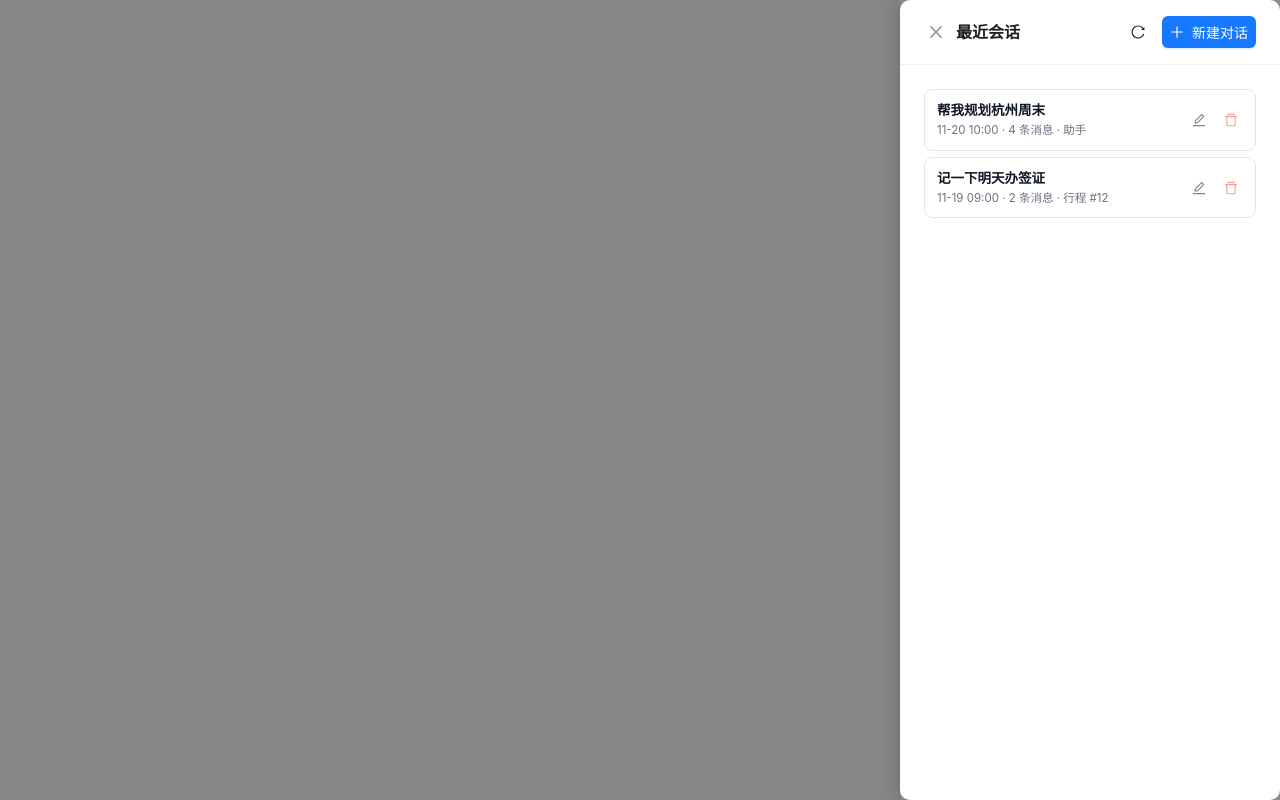
it: ConversationDrawer · 改名与删除（V23） › 取消改名：回到列表，不发任何请求
Click the button named "重命名「帮我规划杭州周末」": click(1199, 120) left=1183, top=104, right=1215, bottom=136
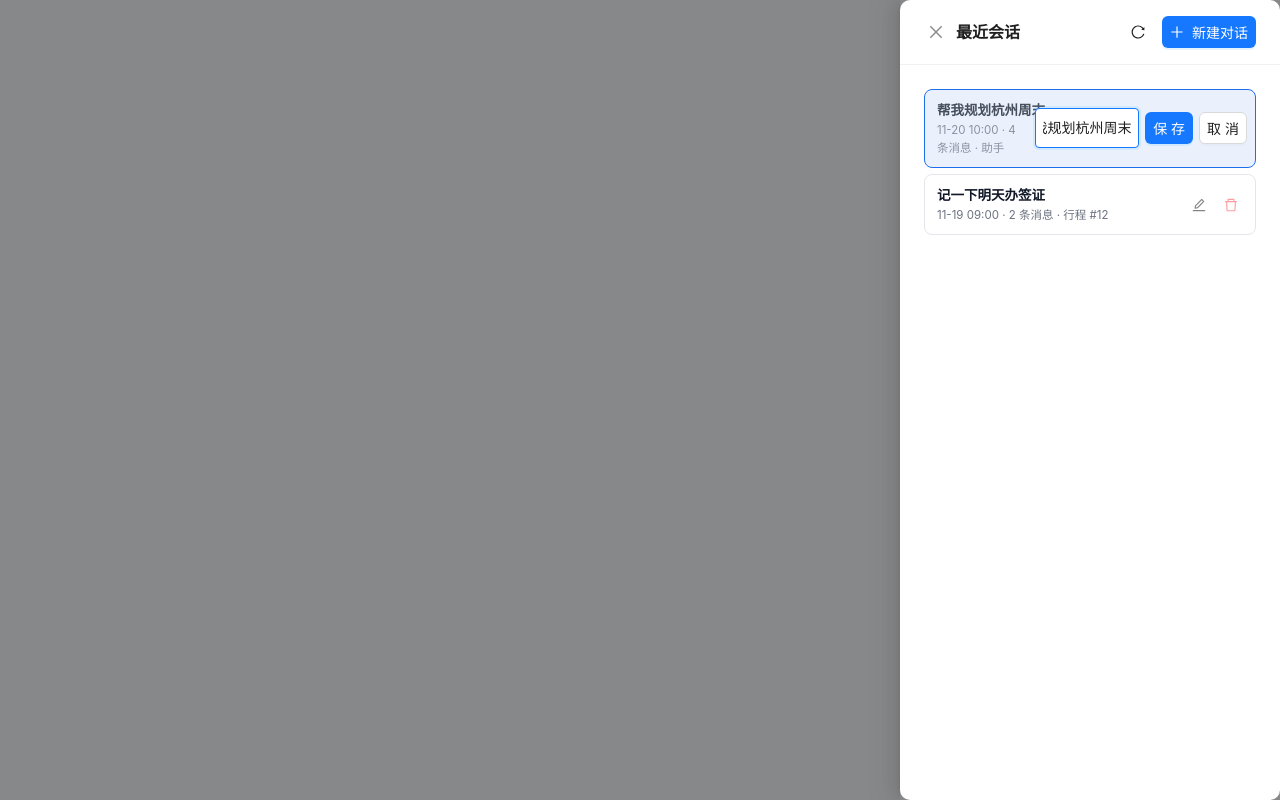
Click the button "取 消": click(1223, 128) left=1199, top=112, right=1247, bottom=144
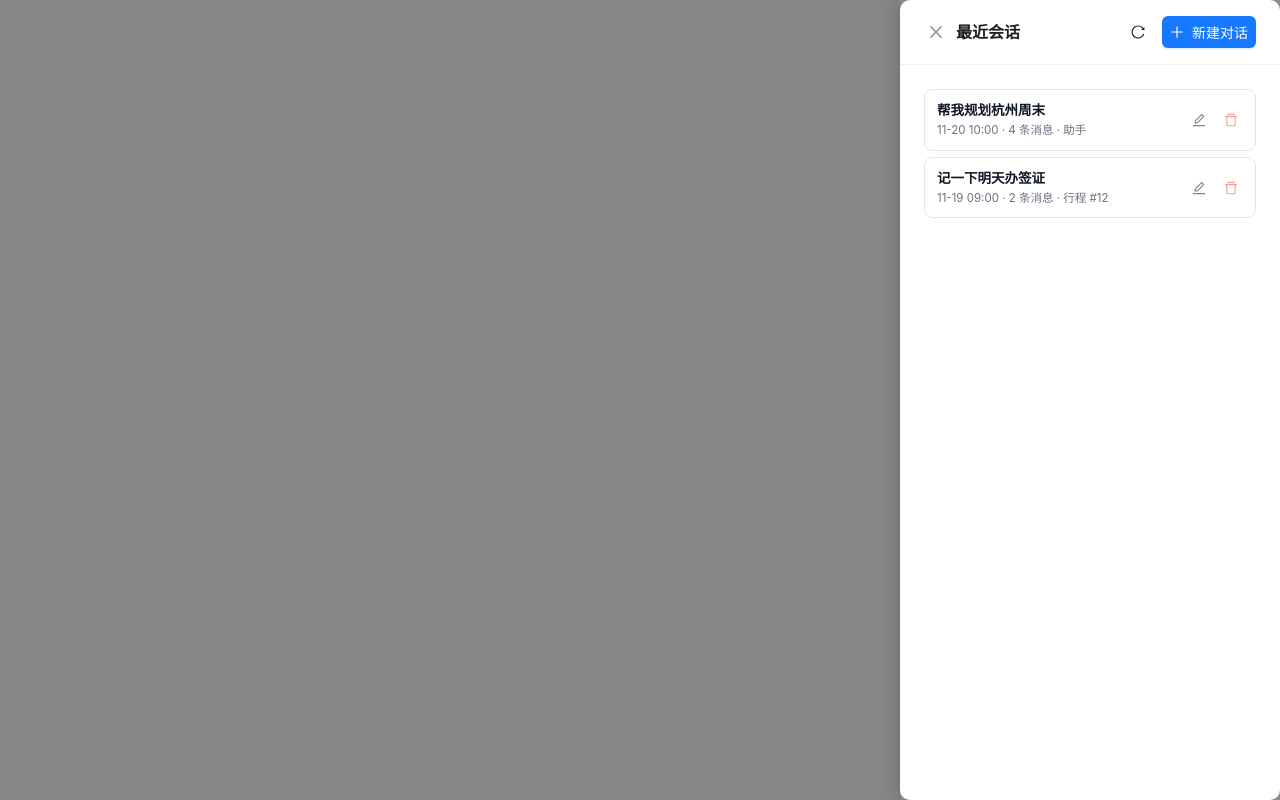
Expected: the field labelled "会话名称" is gone
